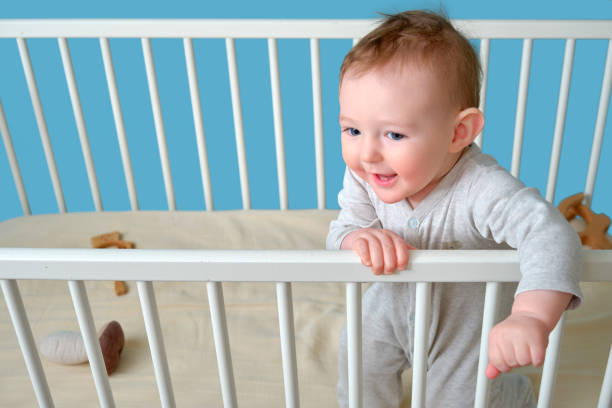baby: (327, 11, 581, 406)
crib: (0, 20, 519, 406)
